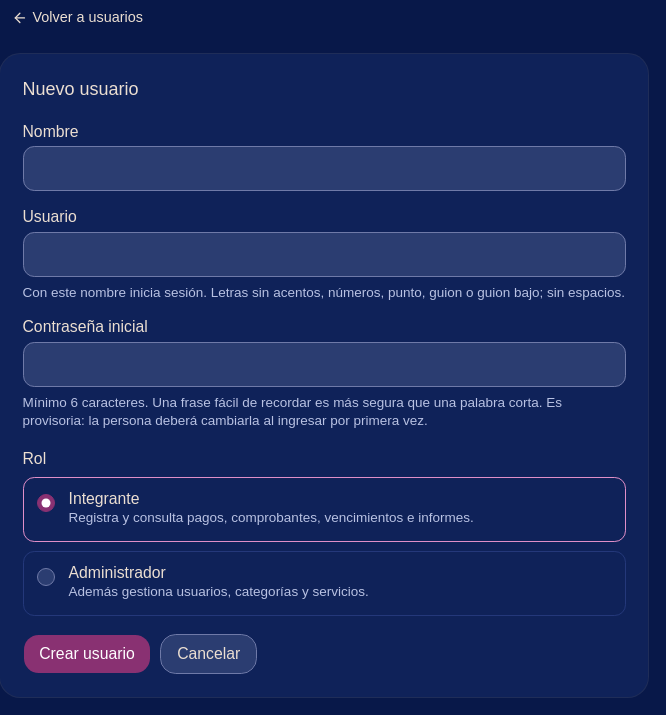
Test: NewUserPage › exige una contraseña de al menos 6 caracteres
The image size is (666, 715).
Type "Leo Pérez" into the field labelled "Nombre".
click(324, 169); type("Leo Pérez")  # box [22,146,626,191]
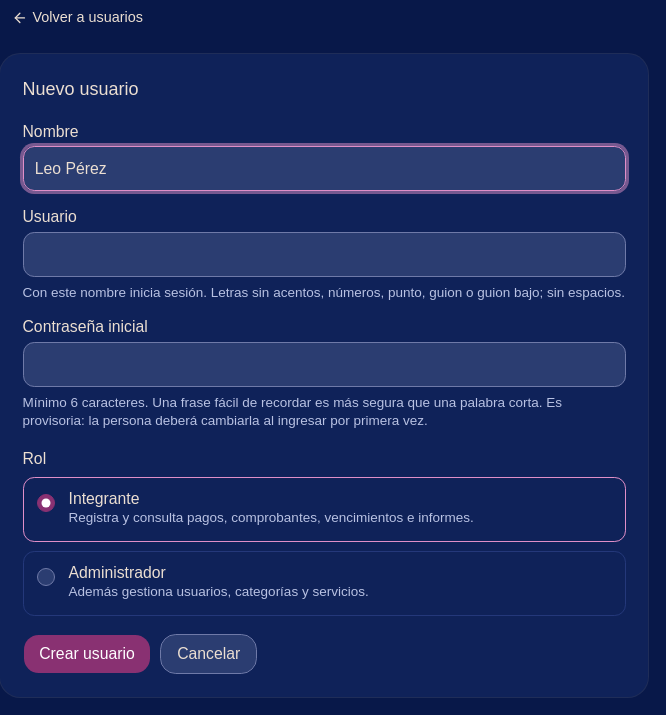
Type "leo" into the field labelled "Usuario".
click(324, 254); type("leo")  # box [22,232,626,277]
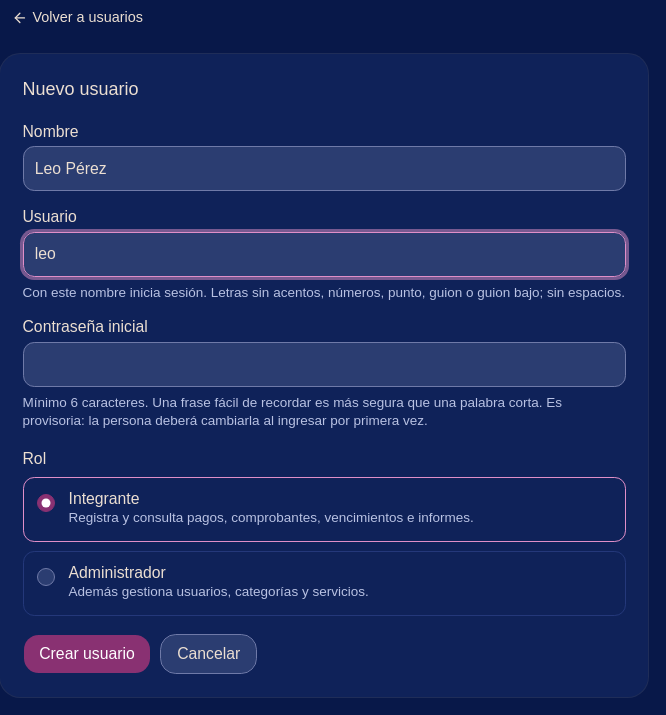
Type "corta" into the password field labelled "Contraseña inicial".
click(324, 364); type("corta")  # box [22,342,626,387]
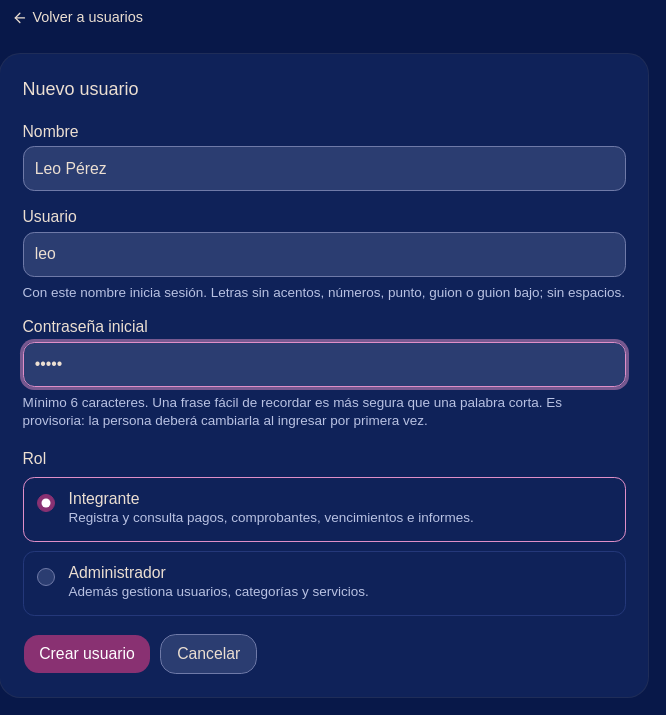
Click the button "Crear usuario".
click(87, 654)  # box [22,634,151,674]
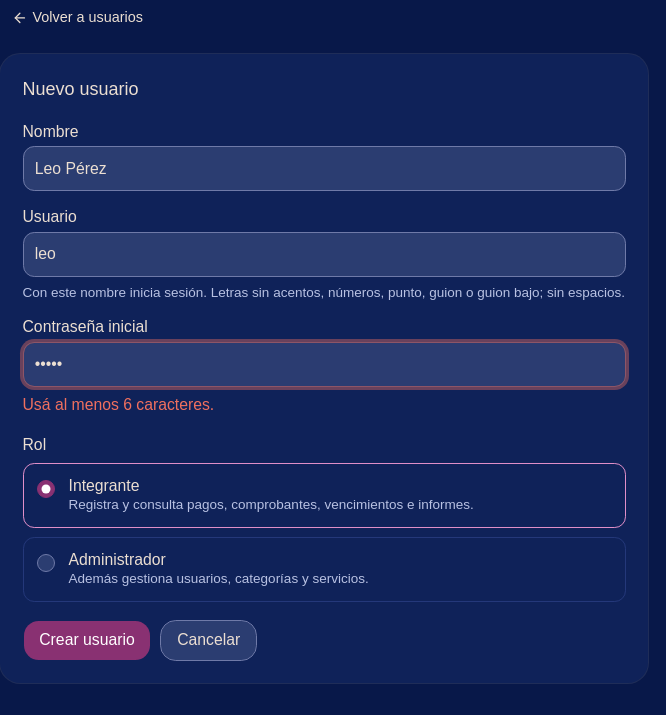
expect the text "Usá al menos 6 caracteres." is shown: met, box [22,396,214,413]
